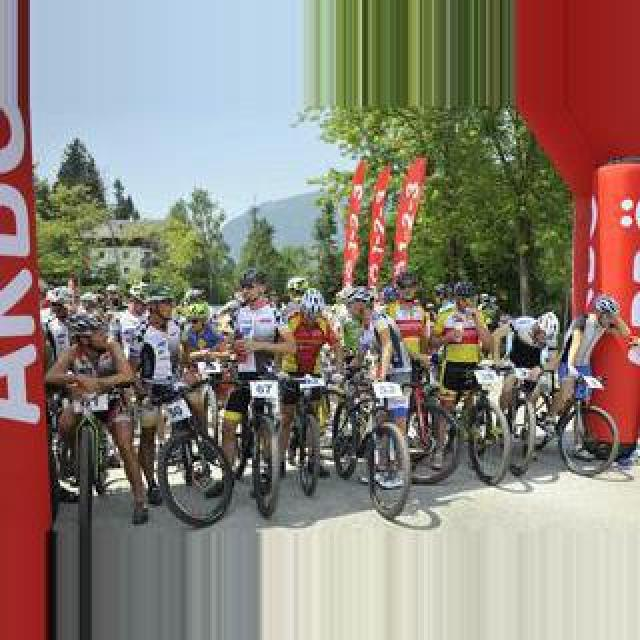MC-Bike: (48, 320, 150, 512), (134, 294, 208, 502), (330, 288, 410, 468), (562, 294, 640, 468), (226, 270, 288, 470), (276, 286, 342, 468), (180, 296, 236, 456), (494, 312, 556, 448), (428, 292, 490, 384)
Person: (140, 364, 232, 528), (330, 370, 414, 518), (50, 386, 126, 520), (236, 366, 300, 516), (540, 370, 620, 476), (404, 360, 462, 486), (456, 366, 512, 486), (282, 370, 334, 498), (322, 374, 370, 480)
